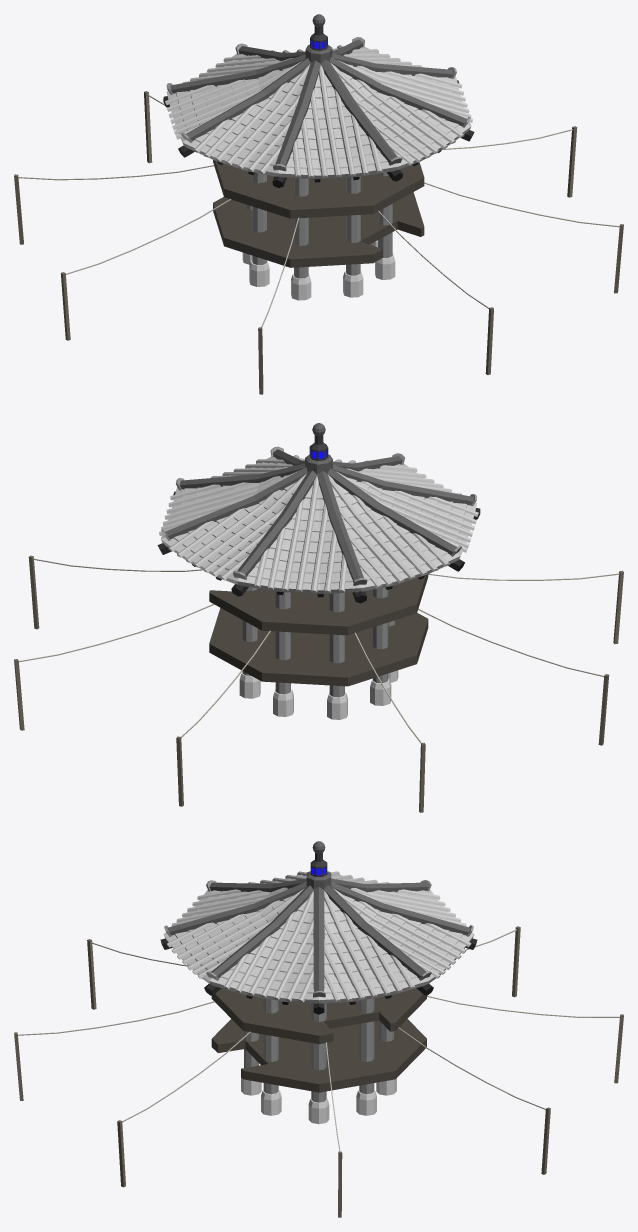
File: Pagoda.FBX
3 renders of one model, top to bottom at view 1: azimuth 30°, elevation 25°; view 2: azimuth 150°, elevation 25°; view 3: azimuth 270°, elevation 25°, orthographic. The views are drawn at different scales.
Visible parts, largest first — view 1: Pagoda_LOD0, Pagoda_Lantern_Line_LOD0; view 2: Pagoda_LOD0, Pagoda_Lantern_Line_LOD0; view 3: Pagoda_LOD0, Pagoda_Lantern_Line_LOD0.
Boxes of the visible parts, <box> form: Pagoda_LOD0: <box>163,14,474,300</box>; Pagoda_Lantern_Line_LOD0: <box>14,91,623,394</box>; Pagoda_LOD0: <box>157,423,480,719</box>; Pagoda_Lantern_Line_LOD0: <box>14,493,623,812</box>; Pagoda_LOD0: <box>160,841,477,1124</box>; Pagoda_Lantern_Line_LOD0: <box>14,926,623,1217</box>.
Size of what is drawn, in the model's own units: 1443 by 651 by 1443.
